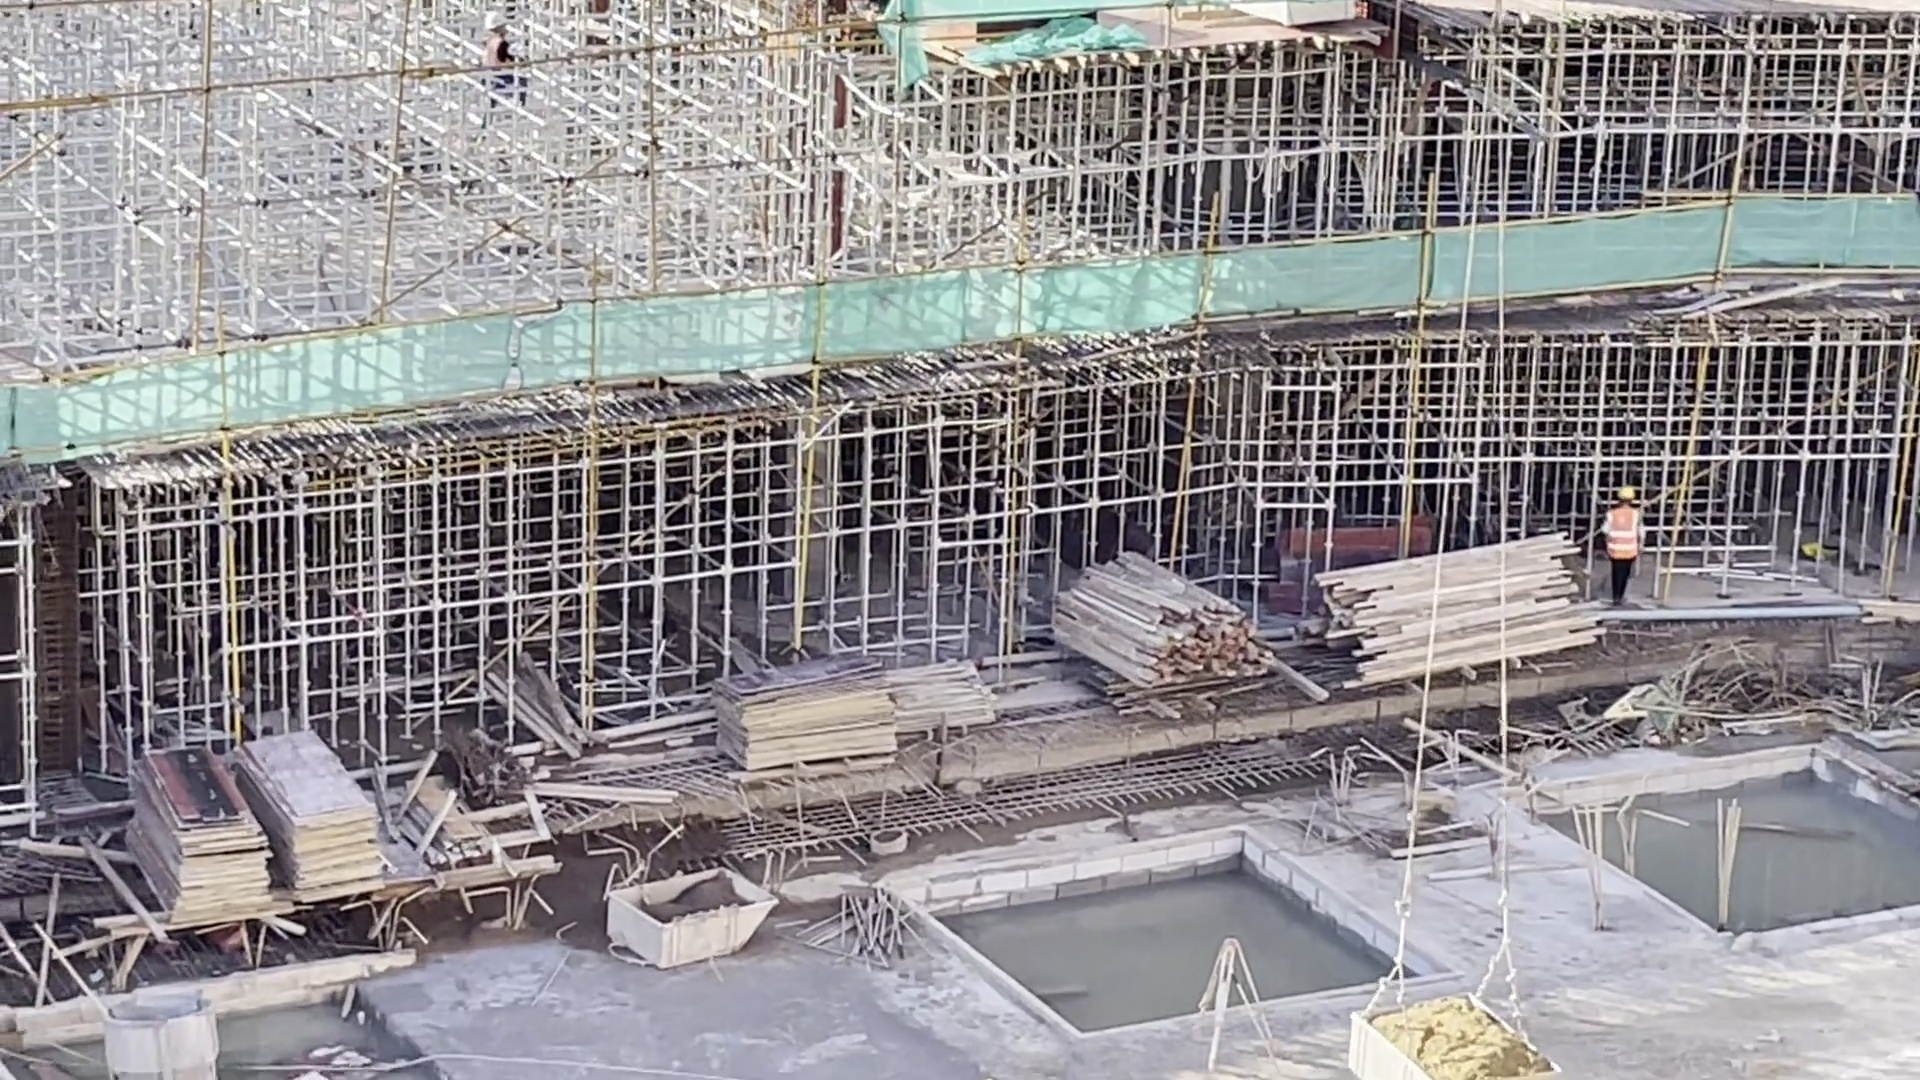board: (118, 745, 277, 927), (243, 724, 385, 908), (717, 658, 907, 779)
helmet: (481, 12, 511, 32), (1614, 488, 1638, 504)
hopper: (1329, 991, 1573, 1080), (607, 868, 778, 969), (95, 987, 221, 1080)
person: (1599, 484, 1650, 609), (473, 12, 522, 64)
vest: (1606, 507, 1640, 564)
wood: (1317, 550, 1606, 691), (1049, 549, 1278, 694)
